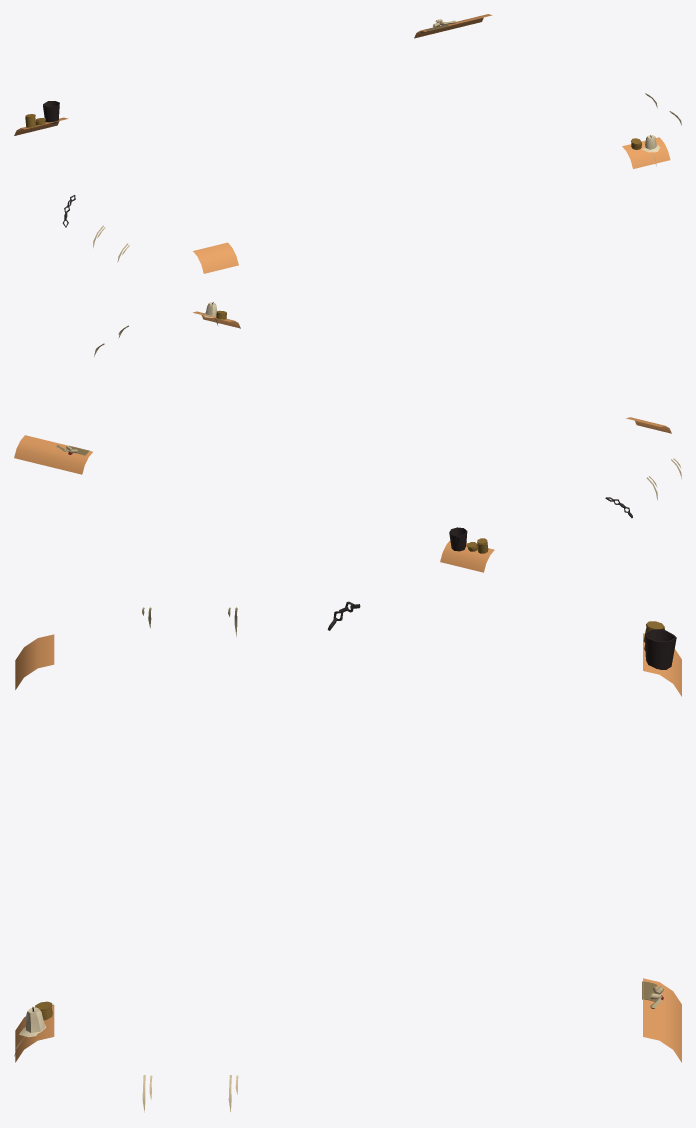
File: dressing_corners.glb
3 views of the same model, one above another, from view 1: azimuth 30°, elevation 25°; view 2: azimuth 150°, elevation 25°; view 3: azimuth 270°, elevation 25° (orthographic). The views are drawn at different scales.
Visible parts, largest first — view 1: dressing_corners; view 2: dressing_corners; view 3: dressing_corners.
Boxes of the visible parts, left/top/right/bottom form: dressing_corners: left=14, top=14, right=681, bottom=273; dressing_corners: left=14, top=302, right=681, bottom=572; dressing_corners: left=14, top=601, right=681, bottom=1112.
Size of the model in its own units: 2.41 by 0.1616 by 1.4.
